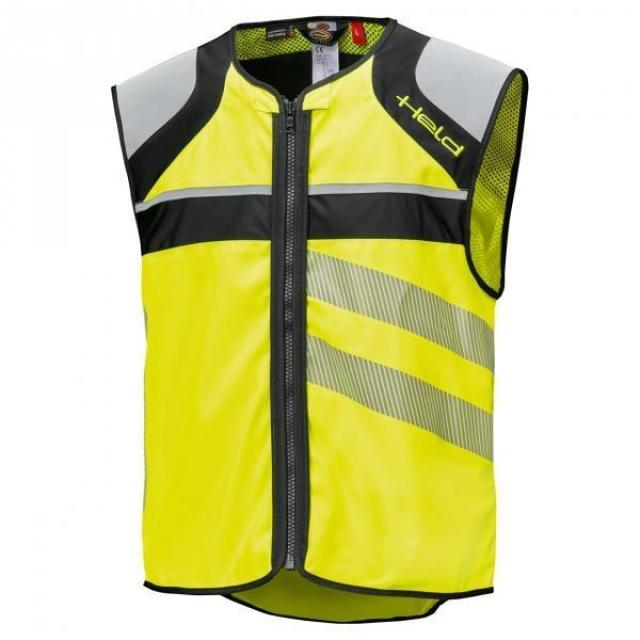Vest: (109, 19, 528, 622)
